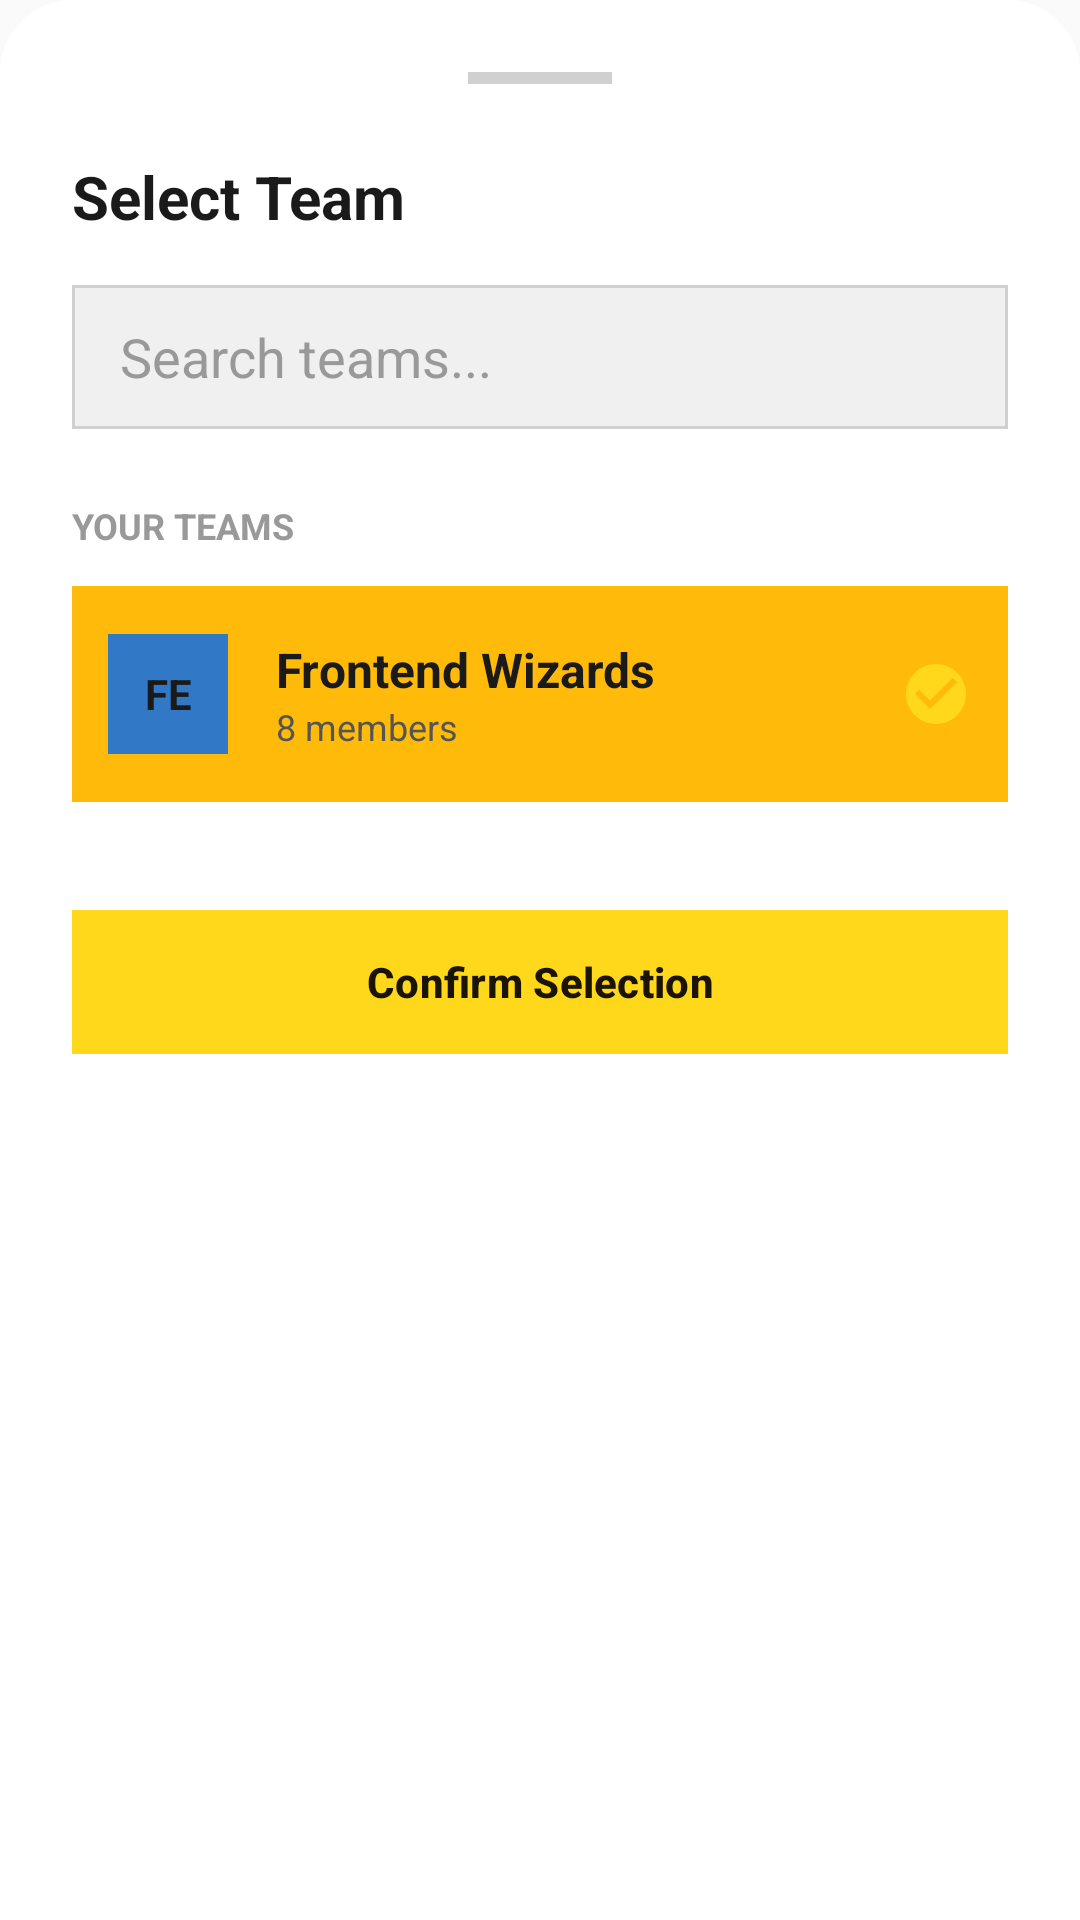

Icons on this 1080px x 1920px Android screen, each with its box as [left=x1, top=y1, right=x2, bottom=y2]:
check circle: [left=906, top=664, right=966, bottom=724]
